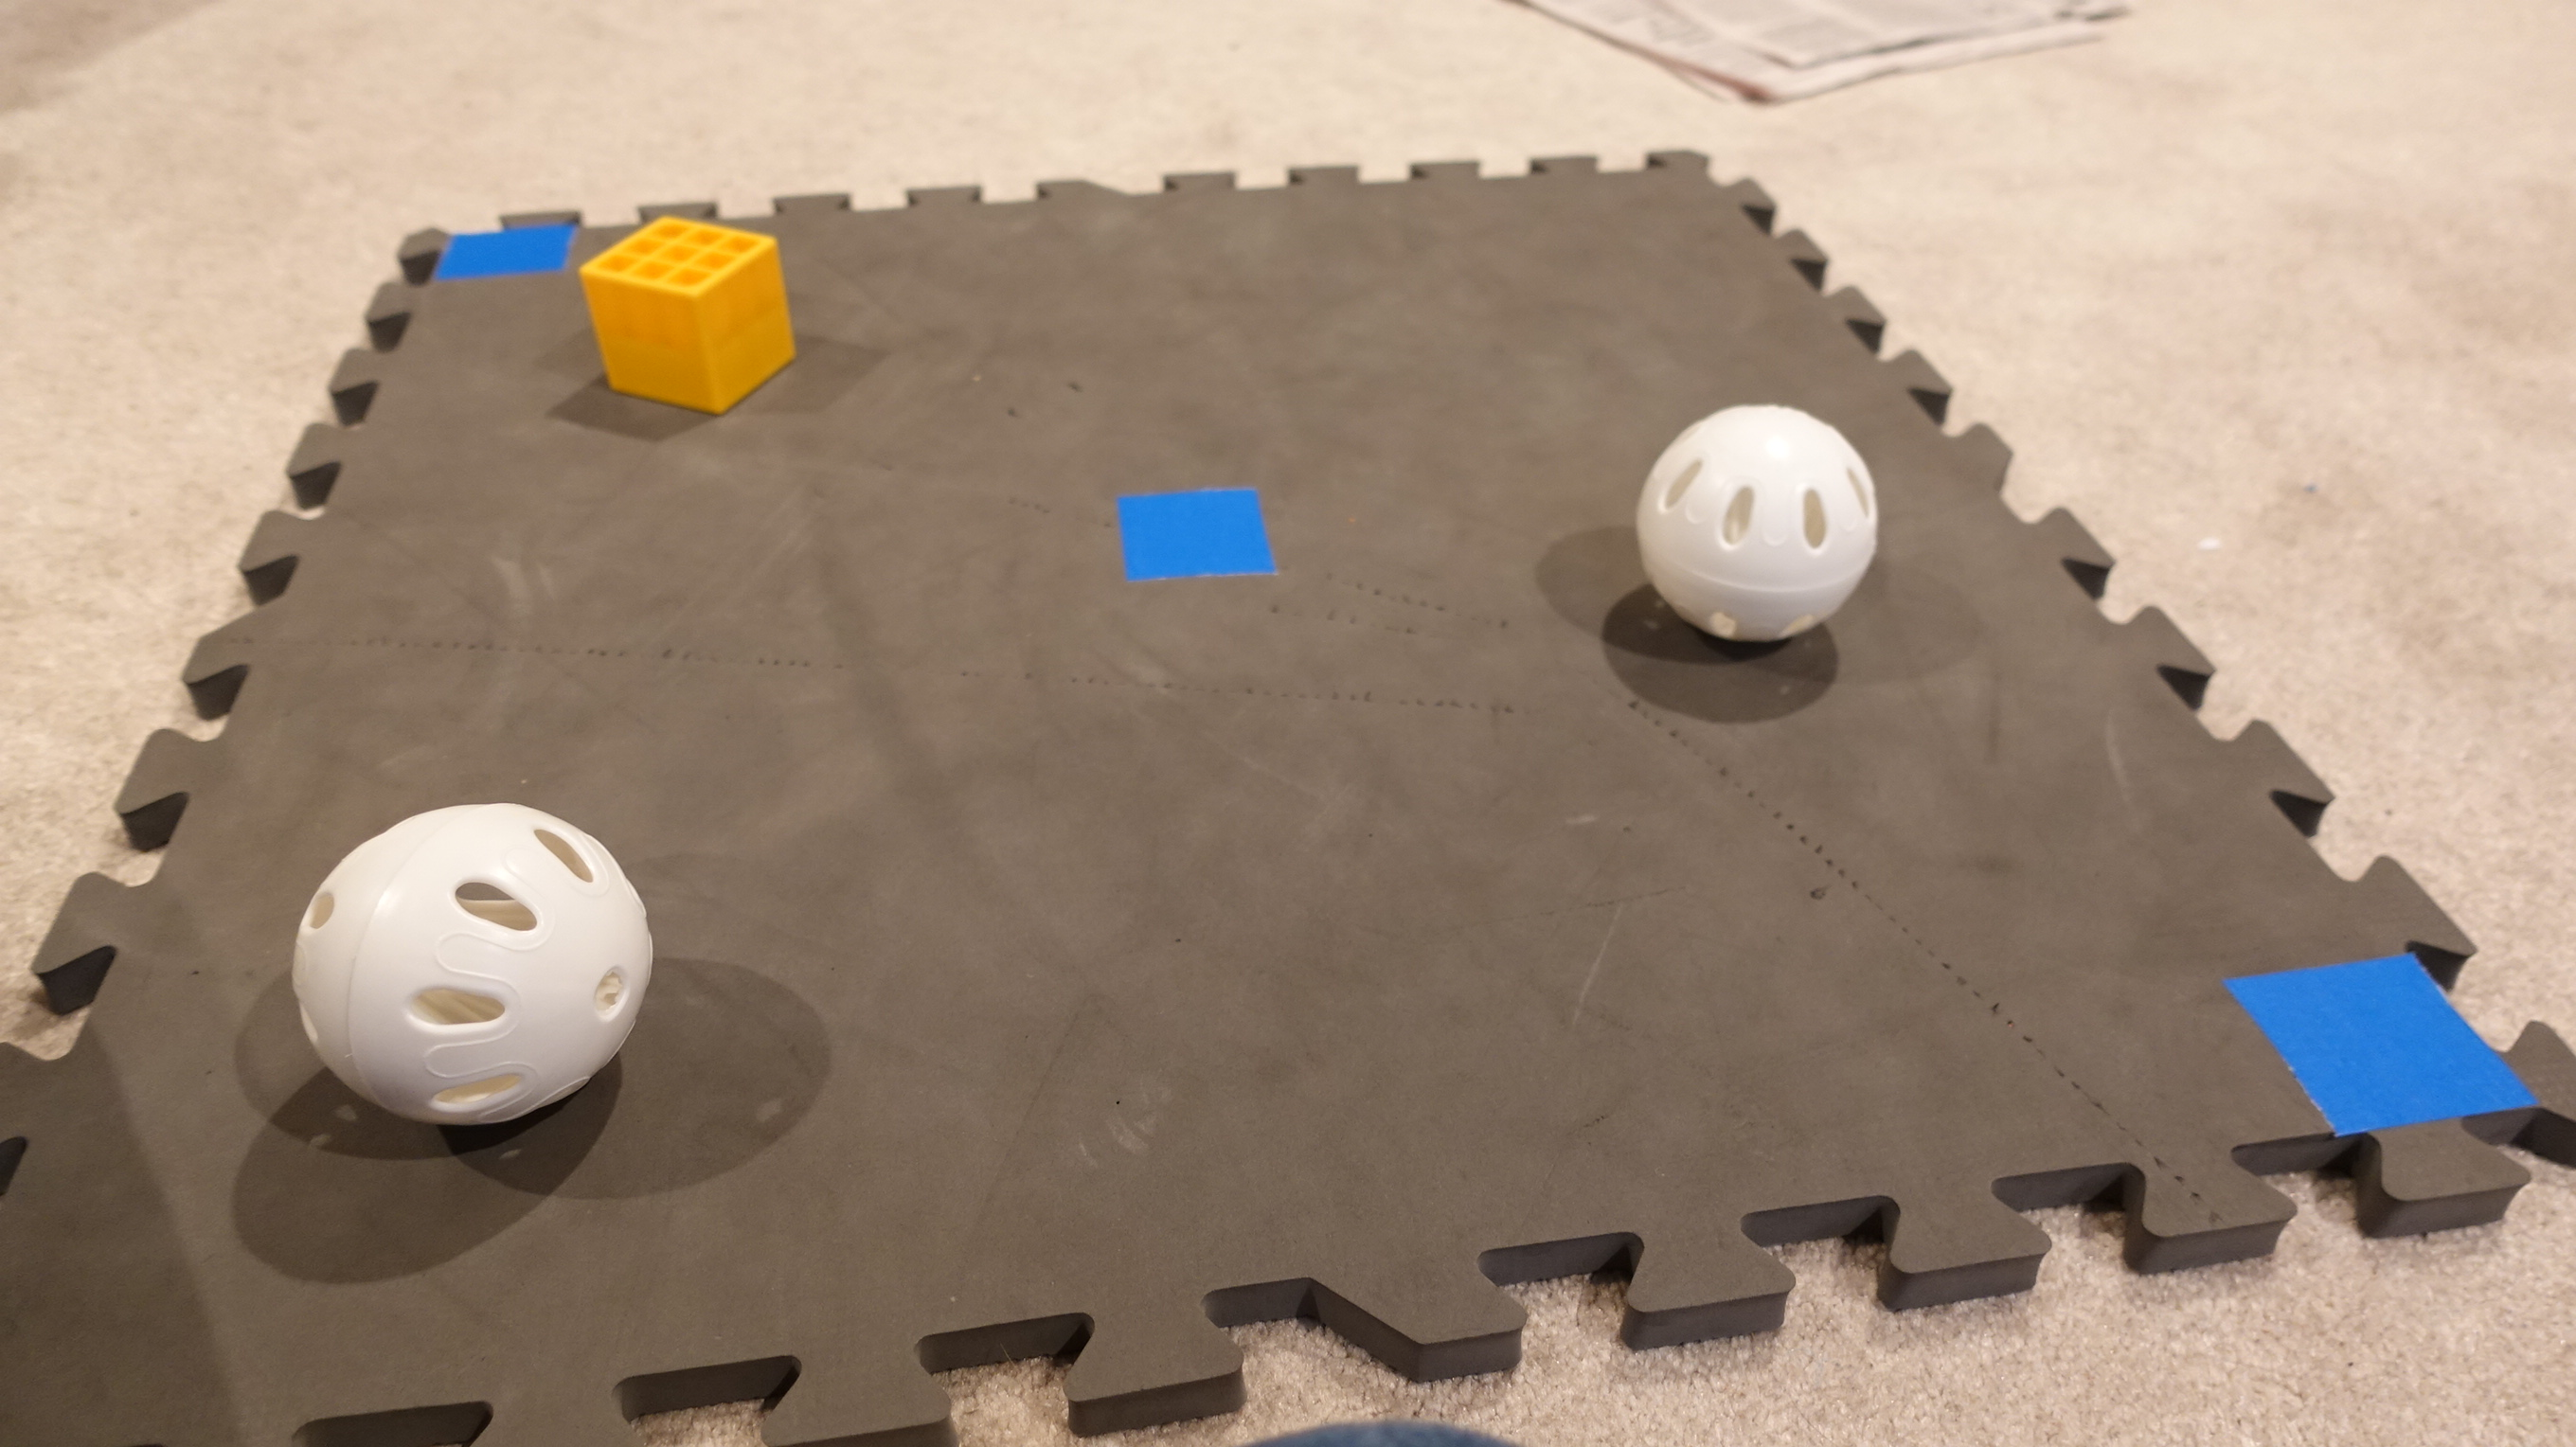gold: (568, 212, 812, 412)
silver: (278, 794, 678, 1129), (1622, 391, 1891, 662)
